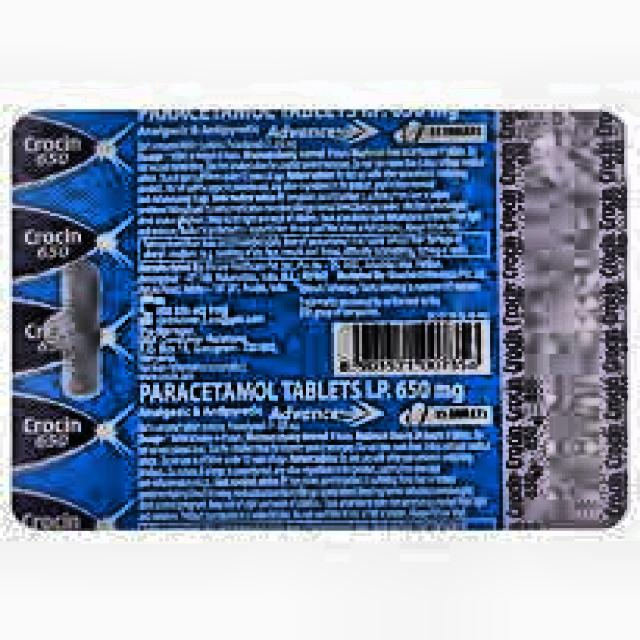Crocin: (14, 118, 130, 534)
